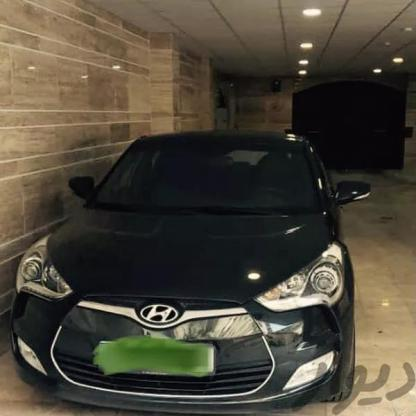Car: (0, 123, 369, 414)
